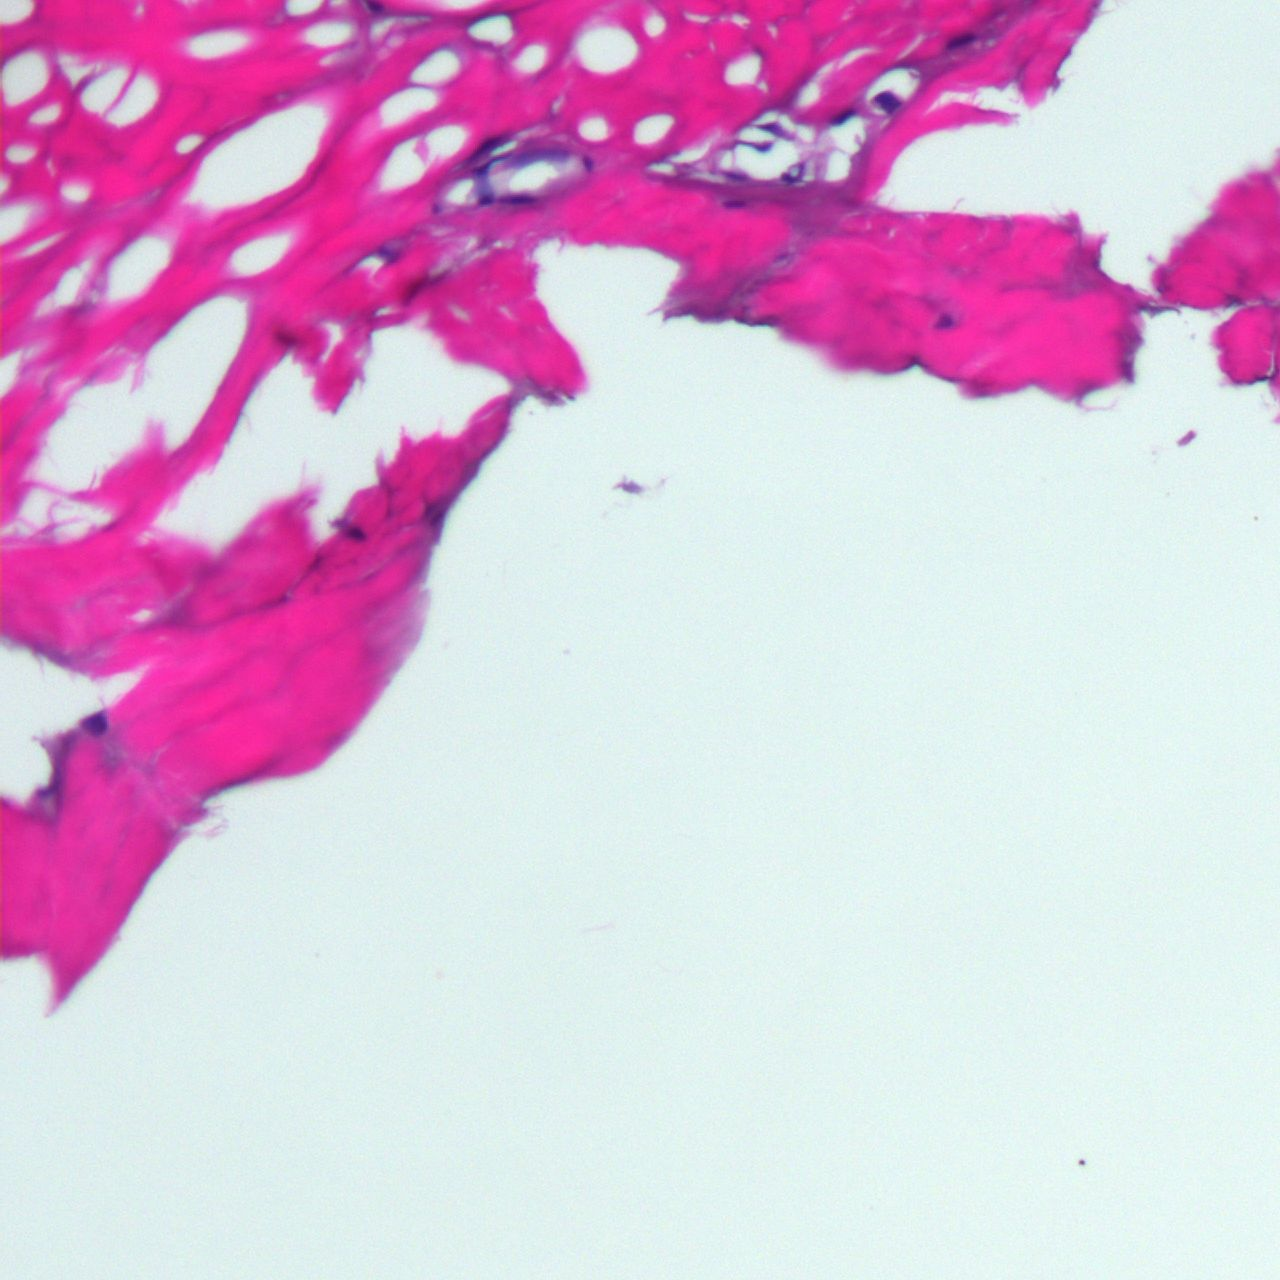dust: (1080, 1159, 1085, 1165)
nucleus-HE: (82, 710, 111, 738), (873, 87, 901, 115), (832, 105, 855, 127), (508, 196, 530, 204), (349, 529, 363, 538)
